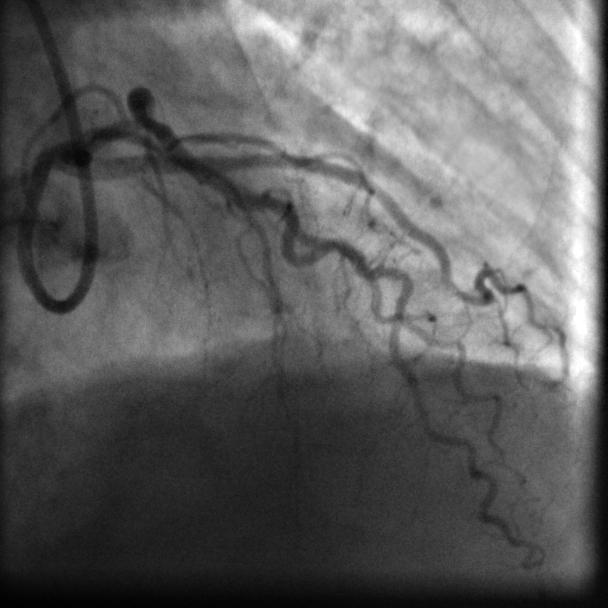Stenosis: (132, 93, 160, 135)
